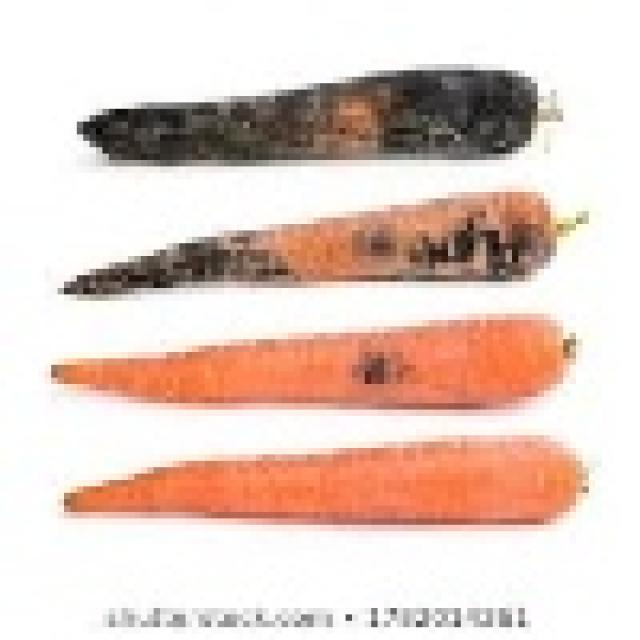Fresh_Carrot: (64, 426, 609, 549)
Stale_Carrot: (58, 57, 555, 186), (73, 171, 571, 299), (58, 308, 580, 421)
